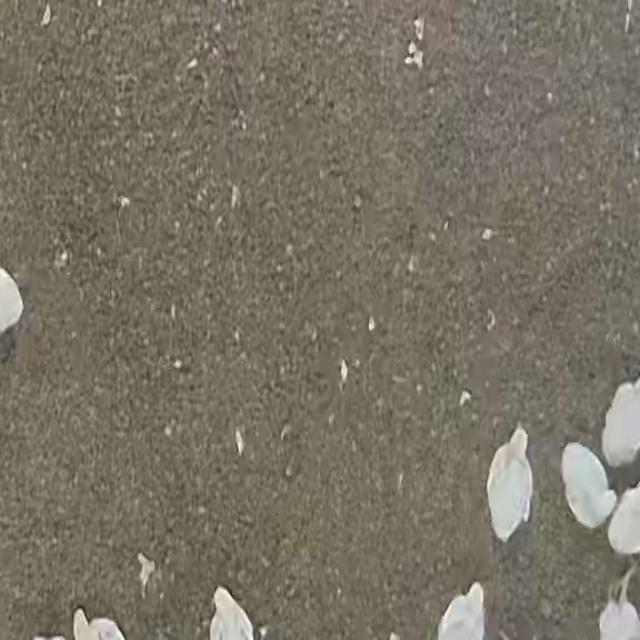chicken: (482, 427, 536, 545), (559, 442, 617, 531), (601, 376, 640, 469), (600, 555, 640, 640), (435, 580, 487, 640), (606, 482, 640, 556), (210, 586, 255, 640)
